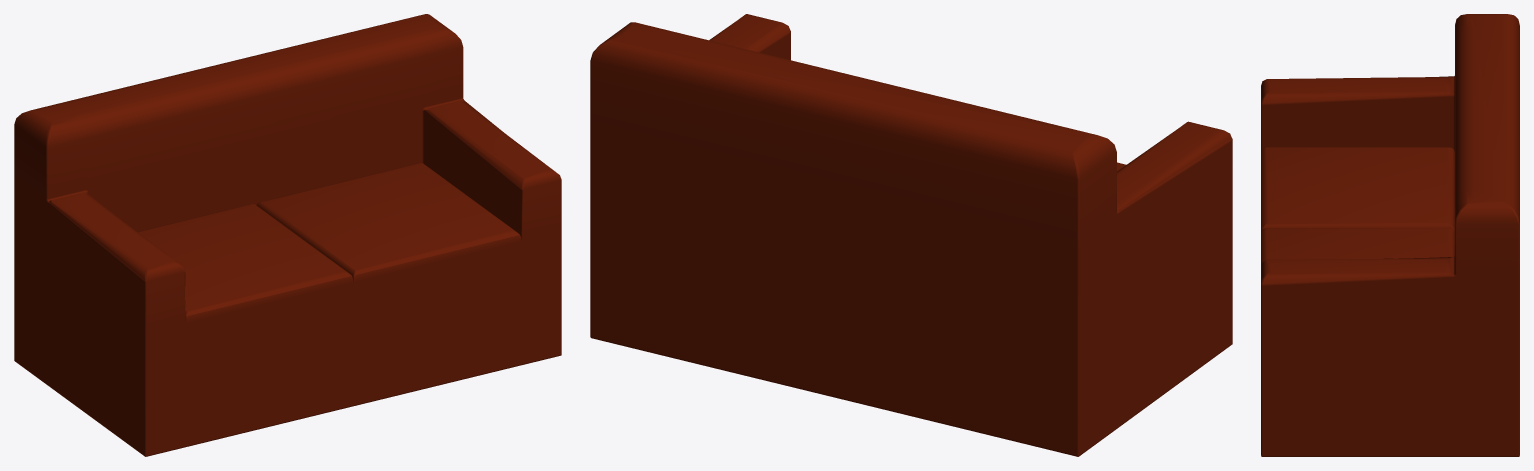
Rendered from Couch.fbx.
3 views of the same model, side by side, from view 1: azimuth 30°, elevation 25°; view 2: azimuth 150°, elevation 25°; view 3: azimuth 270°, elevation 25° (orthographic). The views are drawn at different scales.
Parts seen in each view (by area): view 1: Couch; view 2: Couch; view 3: Couch.
Boxes of the visible parts, <box> form: Couch: <box>14,14,561,456</box>; Couch: <box>590,14,1232,456</box>; Couch: <box>1261,14,1519,456</box>.
Size of the model in its own units: 558 by 324 by 305.
